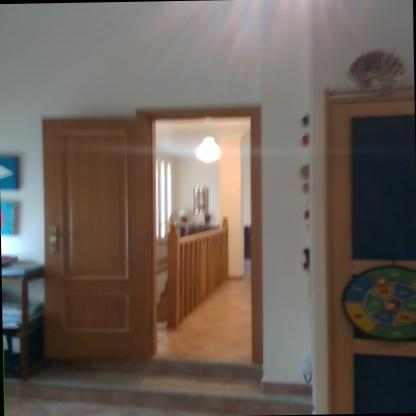closed: (300, 53, 416, 408)
open: (36, 75, 280, 403)
